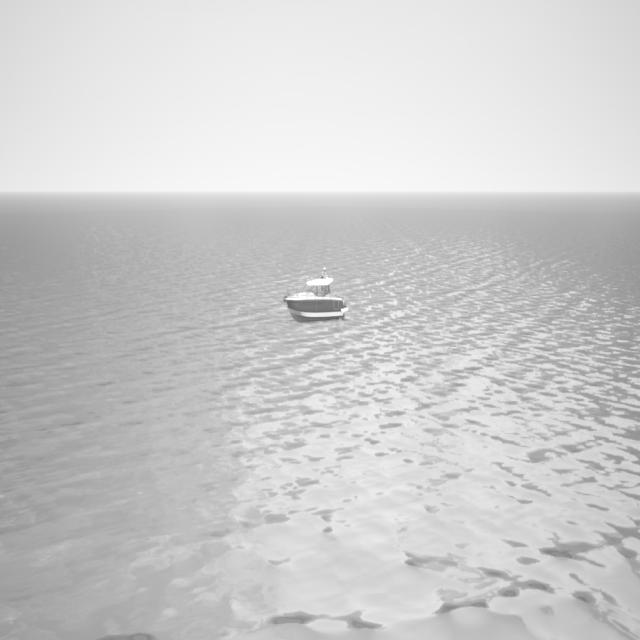ship: (283, 267, 348, 321)
